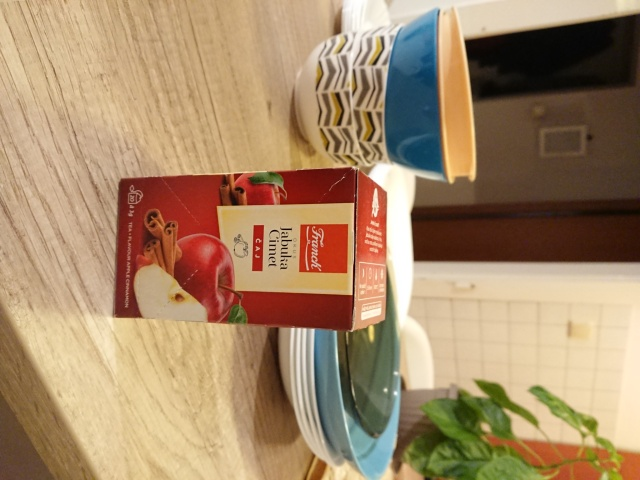Franck Apple Cinnamon Tea 60g: (111, 164, 390, 335)
